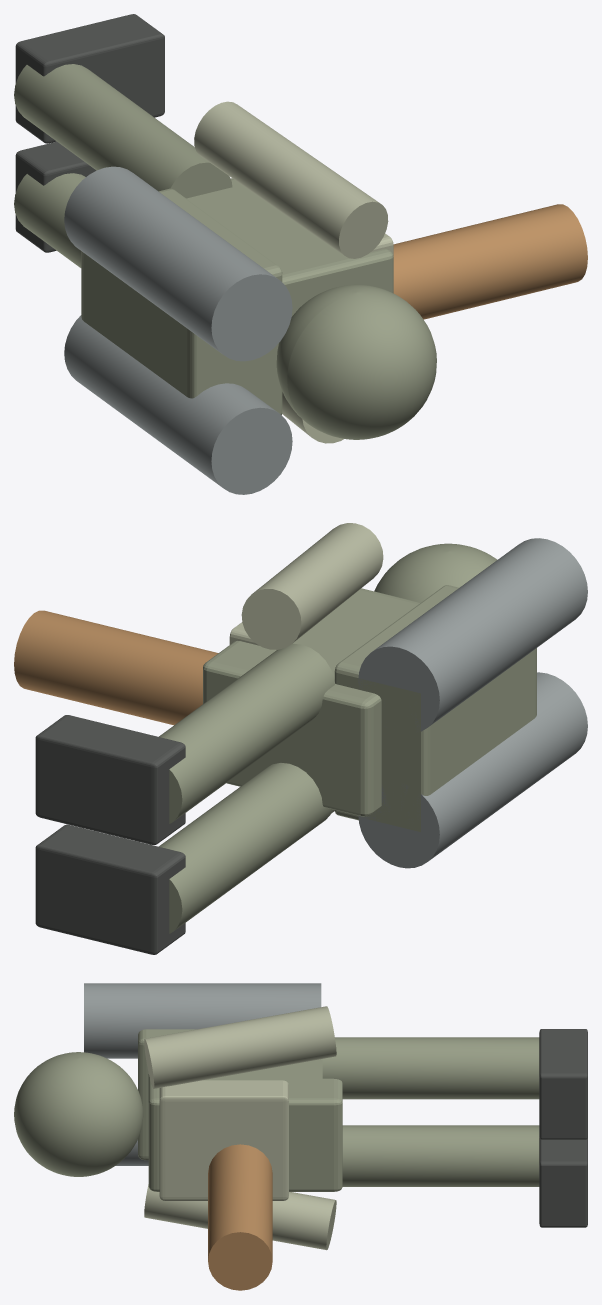
File: v-u08-vanguard-flamethrower-lod1.glb
3 renders of one model, top to bottom at view 1: azimuth 30°, elevation 25°; view 2: azimuth 150°, elevation 25°; view 3: azimuth 270°, elevation 25°, orthographic. The views are drawn at different scales.
Parts seen in each view (by area): view 1: fuel_tank_1, soldier_0_helmet, fuel_tank_-1, soldier_0_flamer, soldier_0_leg_1, soldier_0_arm_1, soldier_0_backpack, soldier_0_torso, soldier_0_boot_1, soldier_0_leg_-1, soldier_0_boot_-1, soldier_0_arm_-1; view 2: fuel_tank_1, soldier_0_torso, soldier_0_backpack, soldier_0_flamer, soldier_0_boot_-1, soldier_0_boot_1, soldier_0_leg_1, fuel_tank_-1, soldier_0_leg_-1, soldier_0_arm_1, soldier_0_helmet; view 3: soldier_0_leg_1, soldier_0_helmet, soldier_0_chest, soldier_0_leg_-1, fuel_tank_1, soldier_0_arm_1, soldier_0_torso, soldier_0_flamer, soldier_0_boot_1, soldier_0_arm_-1, soldier_0_boot_-1, soldier_0_backpack.
Part boxes in pixels (x1,y1,x2,y2): fuel_tank_1: (64,166,292,361); soldier_0_helmet: (276,284,436,439); fuel_tank_-1: (64,315,292,494); soldier_0_flamer: (393,204,587,319); soldier_0_leg_1: (14,64,232,198); soldier_0_arm_1: (194,101,388,258); soldier_0_backpack: (81,188,282,414); soldier_0_torso: (186,178,393,392); soldier_0_boot_1: (15,14,164,143); soldier_0_leg_-1: (14,173,85,267); soldier_0_boot_-1: (15,141,96,252); soldier_0_arm_-1: (282,392,343,443); fuel_tank_1: (358,538,587,732); soldier_0_torso: (203,588,420,816); soldier_0_backpack: (334,585,536,831); soldier_0_flamer: (14,610,218,725); soldier_0_boot_-1: (35,824,185,954); soldier_0_boot_1: (35,715,185,844); soldier_0_leg_1: (159,643,334,823); fuel_tank_-1: (358,672,587,868); soldier_0_leg_-1: (159,763,332,933); soldier_0_arm_1: (241,523,383,649); soldier_0_helmet: (374,543,497,602); soldier_0_leg_1: (322,1037,539,1099); soldier_0_helmet: (14,1052,143,1176); soldier_0_chest: (159,1080,288,1200); soldier_0_leg_-1: (342,1125,539,1186); fuel_tank_1: (84,983,321,1058); soldier_0_arm_1: (144,1006,336,1088); soldier_0_torso: (148,1059,342,1191); soldier_0_flamer: (208,1144,272,1290); soldier_0_boot_1: (539,1029,587,1139); soldier_0_arm_-1: (144,1184,336,1250); soldier_0_boot_-1: (539,1136,587,1227); soldier_0_backpack: (138,1029,196,1160).
Size of what is drawn, in the model's own units: 1.56 by 0.9312 by 2.13.
